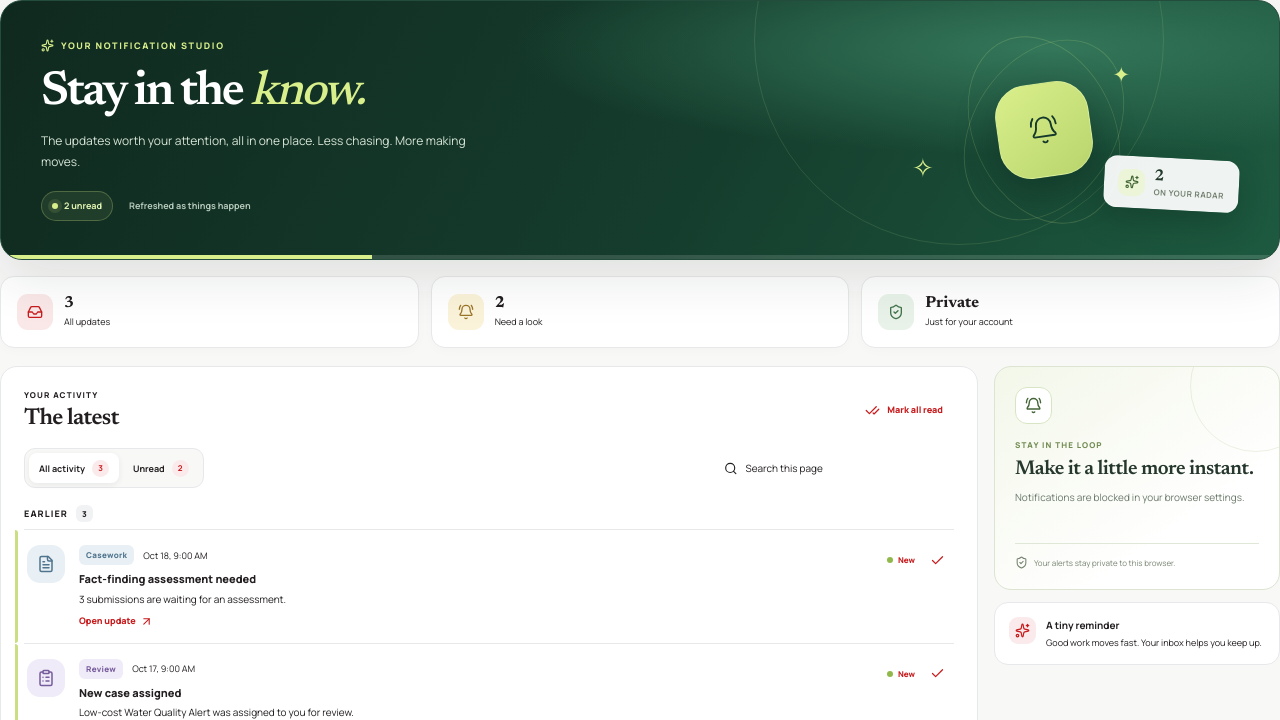
Test case: NotificationsPage › marks a notification read and refreshes the unread count
Click the button named "Mark as read: Fact-finding assessment needed" at x=937, y=560, box [923, 546, 951, 574]
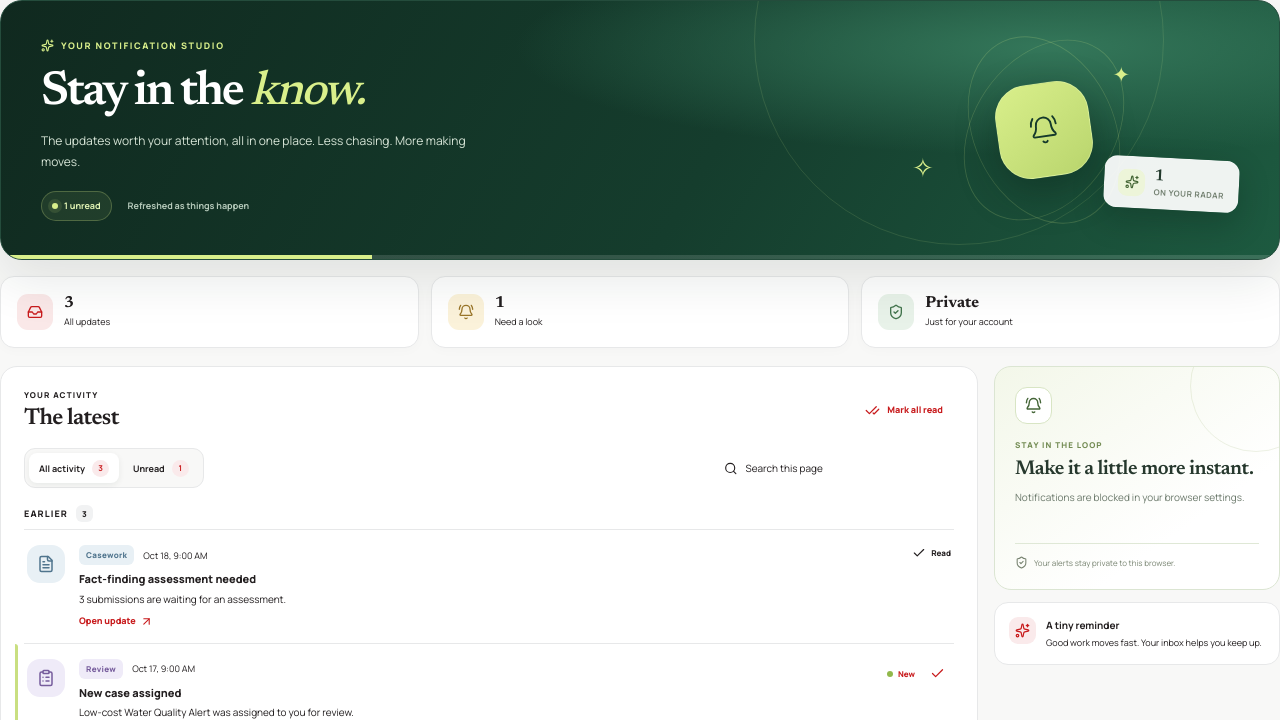
Expected: the text "1 unread" is shown, [41, 192, 112, 221]
